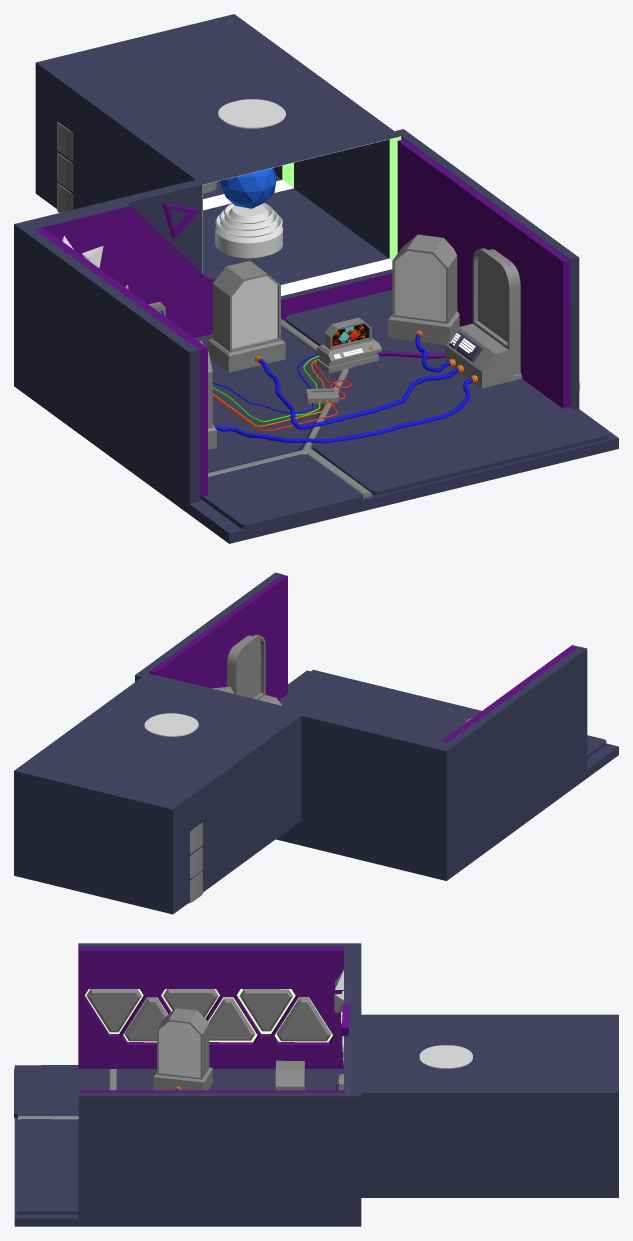
Rendered from Level02.glb.
The picture shows the model from 3 angles, top to bottom: view 1: azimuth 30°, elevation 25°; view 2: azimuth 150°, elevation 25°; view 3: azimuth 270°, elevation 25°; orthographic projection. The views are drawn at different scales.
Visible parts, largest first — view 1: Cube.008, Cube.073, mur déco.003, Cube.072, Cube.074, Cube.095, portail B, Cube.076, portail C, Cube.020, portailSEO, portailBoutique (+8 smaller); view 2: Cube.008, mur déco.003, Cube.073, Cube.095, Cube.022, mur déco.002; view 3: Cube.008, mur déco.002, Cube.073, Cube.074, Cube.072, portail A, portailVitrine, Circle.022, Circle.030, Circle.020, Circle.021, Circle.023 (+5 smaller).
Part boxes in pixels (x1=…): Cube.008: x1=14, y1=14, x2=618, y2=543; Cube.073: x1=312, y1=344, x2=608, y2=495; mur déco.003: x1=397, y1=139, x2=569, y2=408; Cube.072: x1=195, y1=327, x2=338, y2=472; Cube.074: x1=199, y1=454, x2=362, y2=531; Cube.095: x1=445, y1=248, x2=521, y2=388; portail B: x1=208, y1=261, x2=285, y2=372; Cube.076: x1=286, y1=290, x2=441, y2=359; portail C: x1=388, y1=234, x2=459, y2=344; Cube.020: x1=215, y1=203, x2=282, y2=258; portailSEO: x1=395, y1=251, x2=445, y2=320; portailBoutique: x1=232, y1=276, x2=277, y2=348; Cube.008: x1=14, y1=572, x2=618, y2=914; mur déco.003: x1=150, y1=574, x2=287, y2=700; Cube.073: x1=278, y1=669, x2=481, y2=741; Cube.095: x1=227, y1=634, x2=281, y2=705; Cube.022: x1=144, y1=713, x2=198, y2=736; mur déco.002: x1=440, y1=645, x2=578, y2=742; Cube.008: x1=14, y1=943, x2=618, y2=1226; mur déco.002: x1=78, y1=947, x2=343, y2=1068; Cube.073: x1=17, y1=1119, x2=78, y2=1214; Cube.074: x1=14, y1=1067, x2=108, y2=1118; Cube.072: x1=118, y1=1069, x2=343, y2=1090; portail A: x1=153, y1=1008, x2=212, y2=1090; portailVitrine: x1=159, y1=1021, x2=200, y2=1076; Circle.022: x1=276, y1=997, x2=331, y2=1041; Circle.030: x1=86, y1=989, x2=141, y2=1032; Circle.020: x1=239, y1=989, x2=292, y2=1031; Circle.021: x1=209, y1=998, x2=255, y2=1040; Circle.023: x1=124, y1=997, x2=167, y2=1041.
Bounding box in the file's own units: 39.04 × 15.64 × 65.22.
15 materials, 1 textured.
